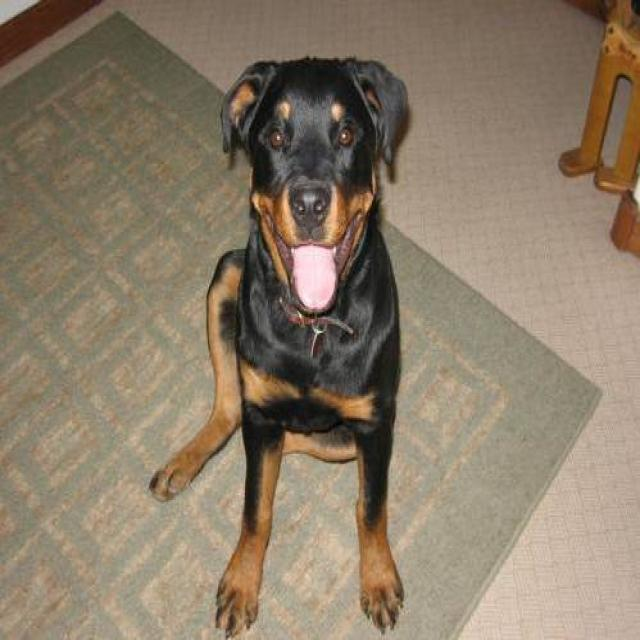dog: (148, 53, 409, 638)
